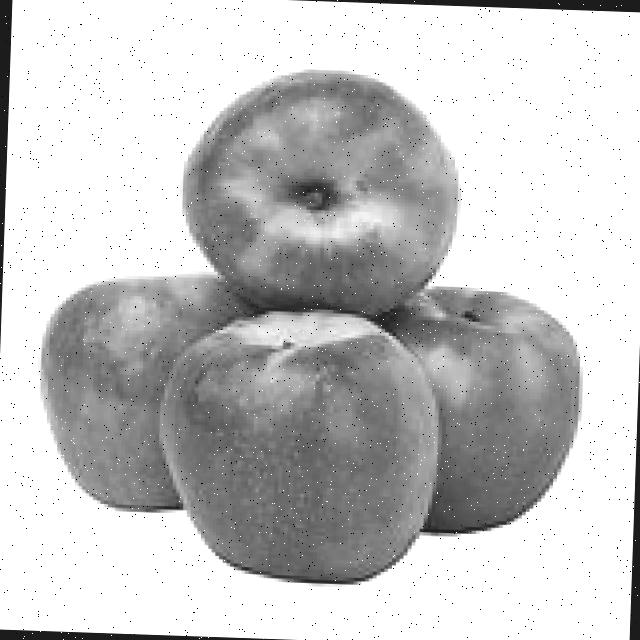apple: (153, 302, 446, 588), (176, 60, 466, 313)
